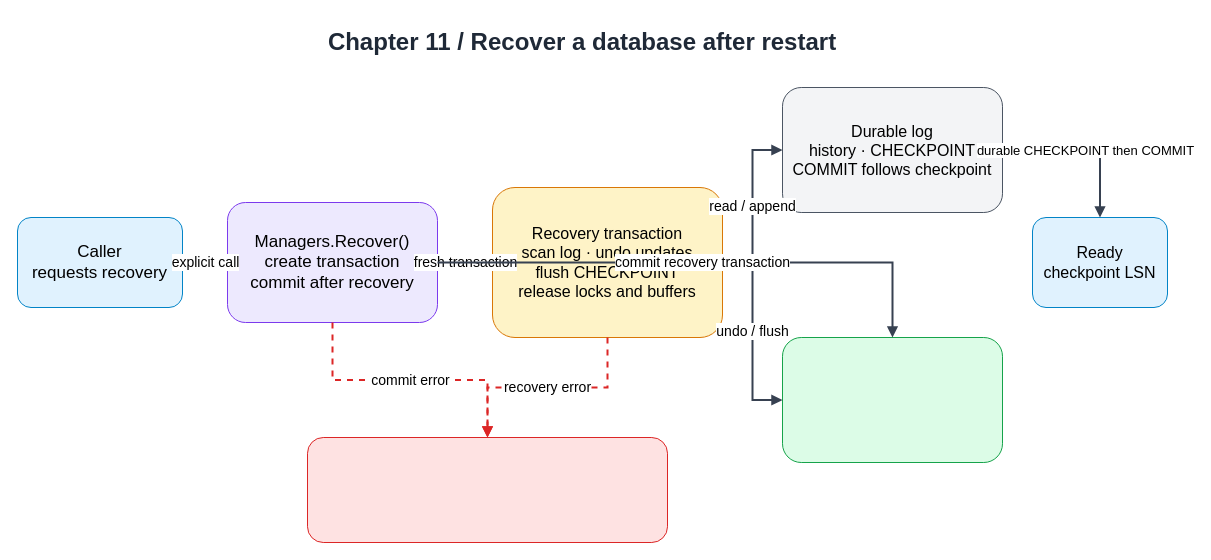
The diagram is 1211 pixels wide and 560 high, and some of its shapes have lost their labels. The shapes that lost their labels are listed below. From the top down, each one's centre as x and y in pixels, then its label:
At [892,399]: "Database buffers undo uncommitted pages flush restored pages".
At [487,489]: "Restart error recovery or commit failure keeps context".
